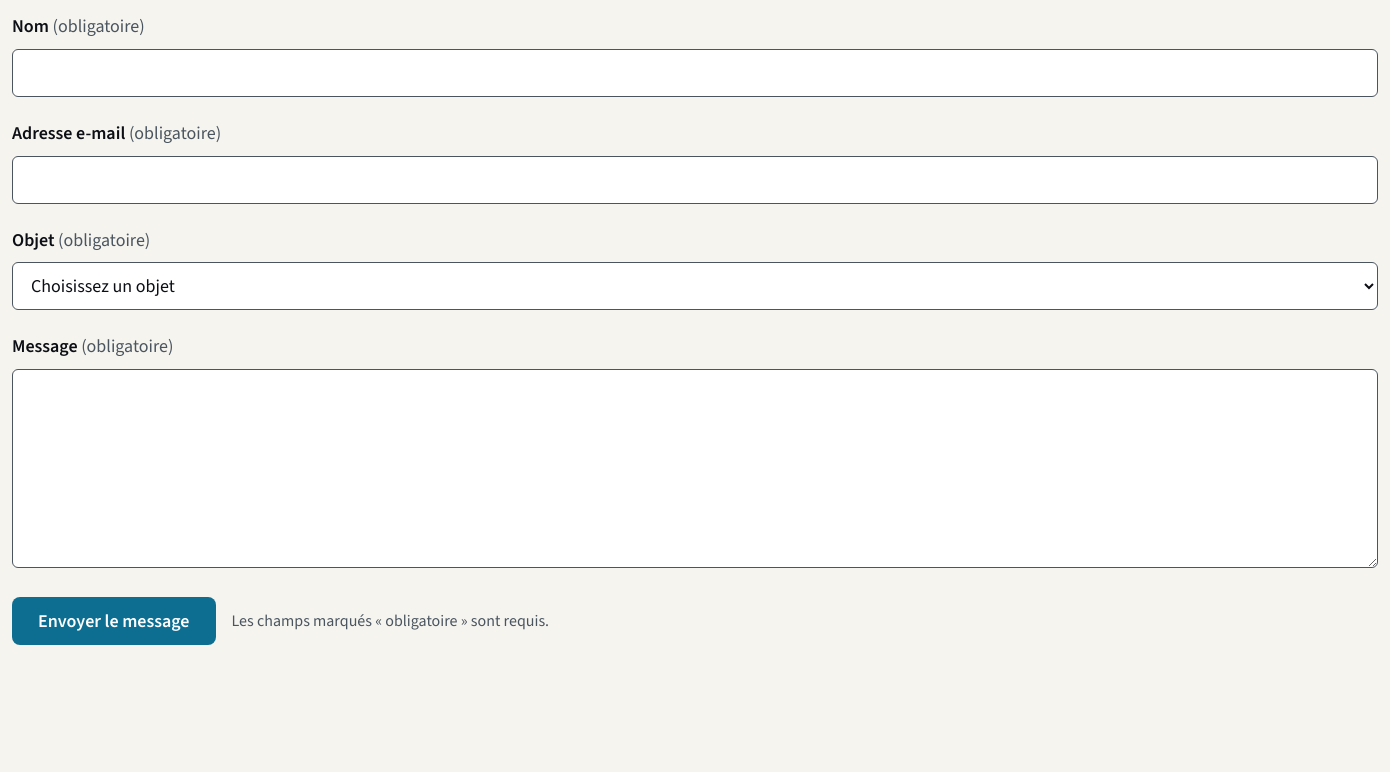
Scenario: ContactForm › should switch the summary to the singular for a single error
This screenshot has width=1390, height=772.
In the field labelled "Nom (obligatoire)": (695, 73) [12,49,1378,97], type "Marie Dupont"
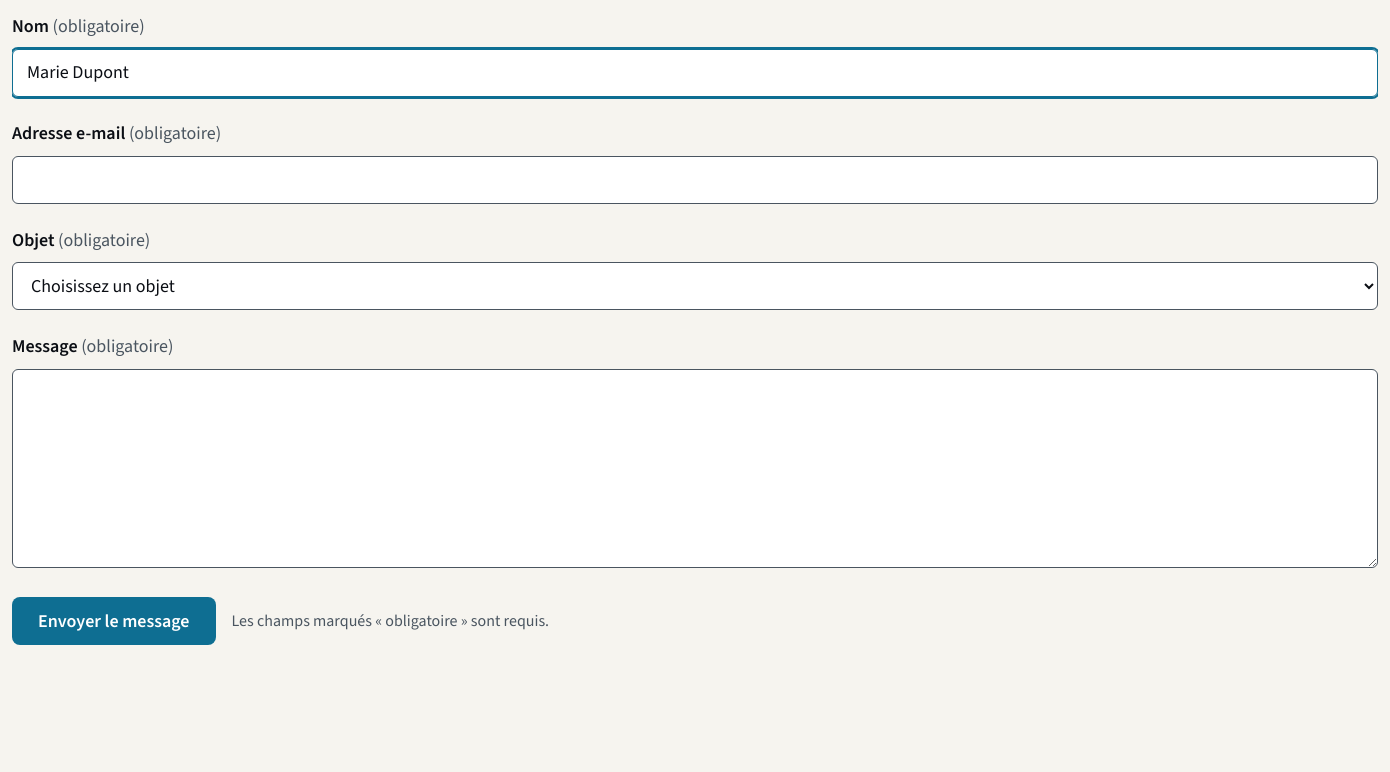
In the field labelled "Adresse e-mail (obligatoire)": (695, 180) [12,156,1378,204], type "marie@example.com"
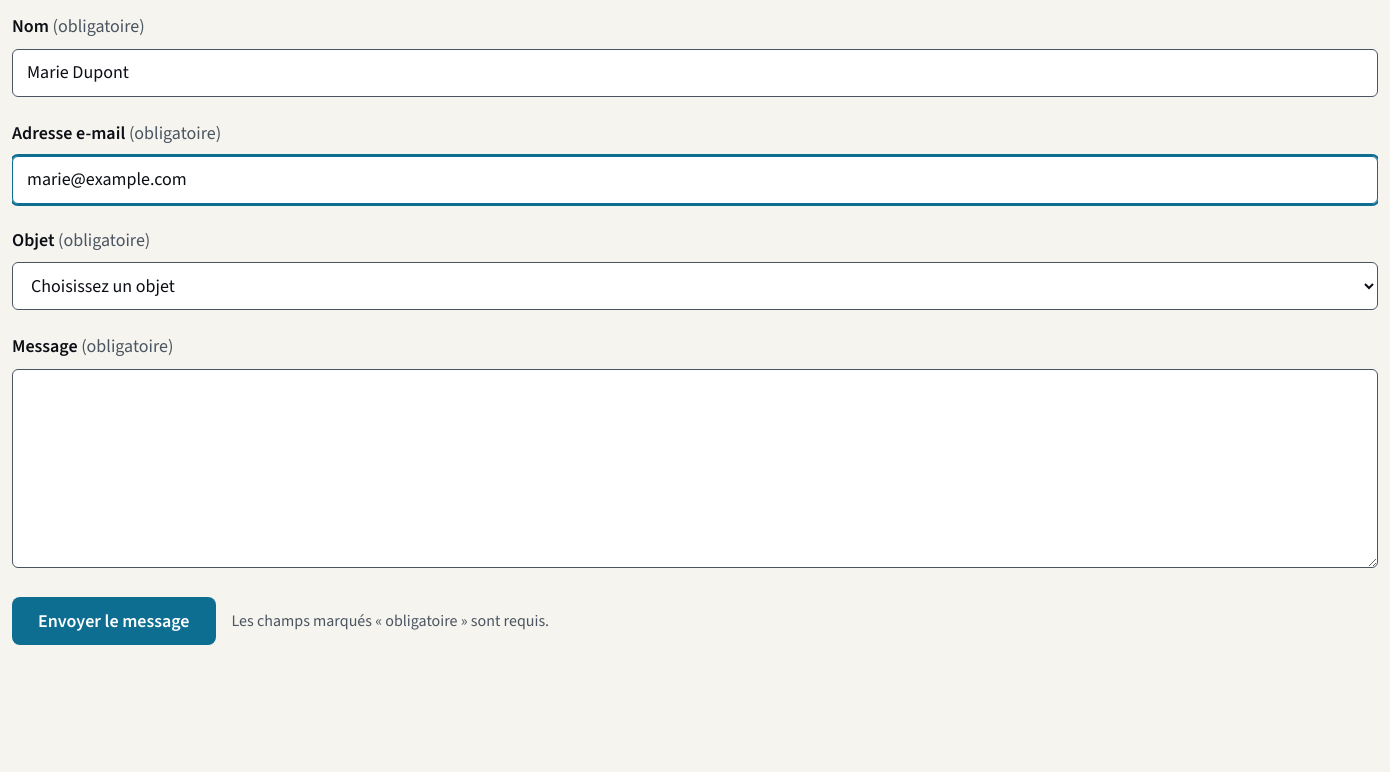
Select "Question sur les concerts" in the dropdown labelled "Objet (obligatoire)": (695, 286) [12,262,1378,310]
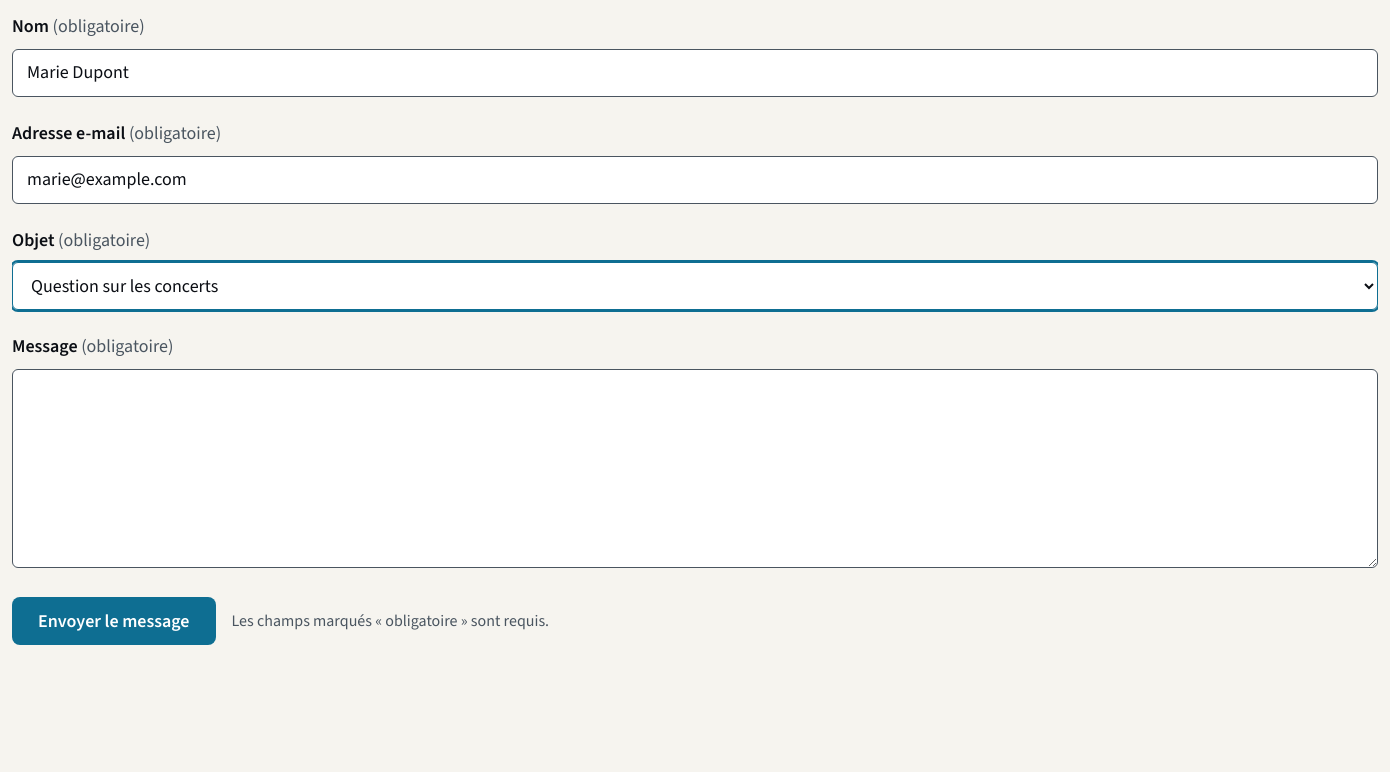
In the text box labelled "Message (obligatoire)": (695, 469) [12,369,1378,568], type "Bonjour, je souhaite des informations sur vos concerts."
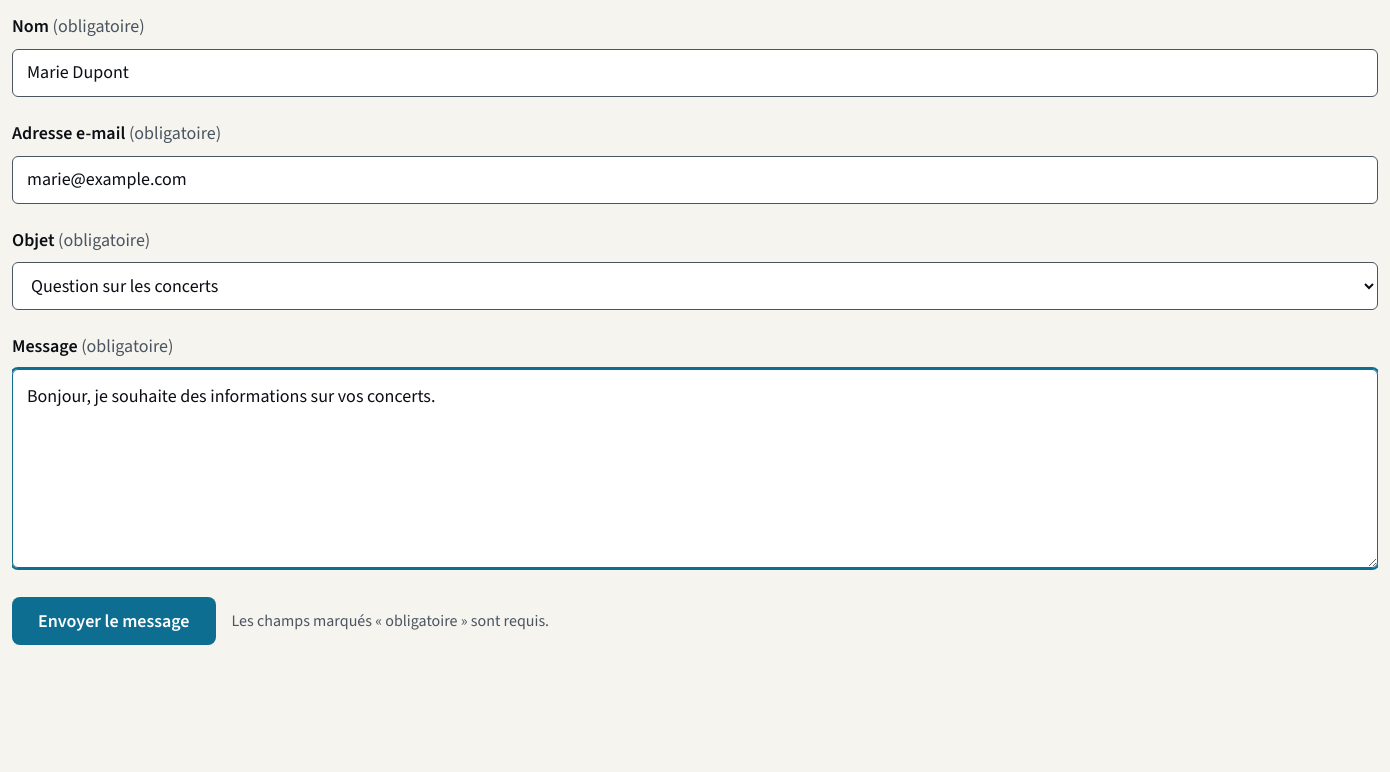
Clear the field labelled "Nom (obligatoire)": (695, 73) [12,49,1378,97]
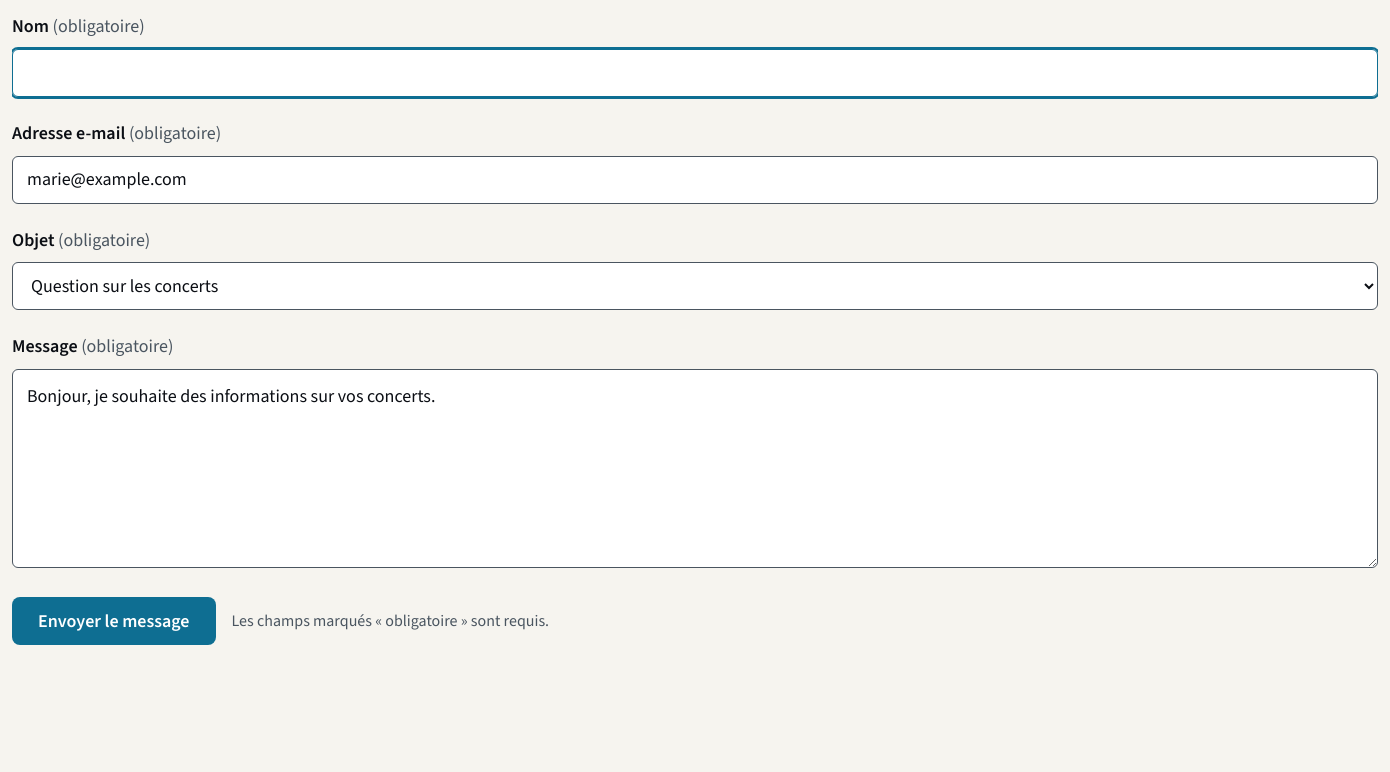
Click the button "Envoyer le message": (114, 621) [12,597,216,645]
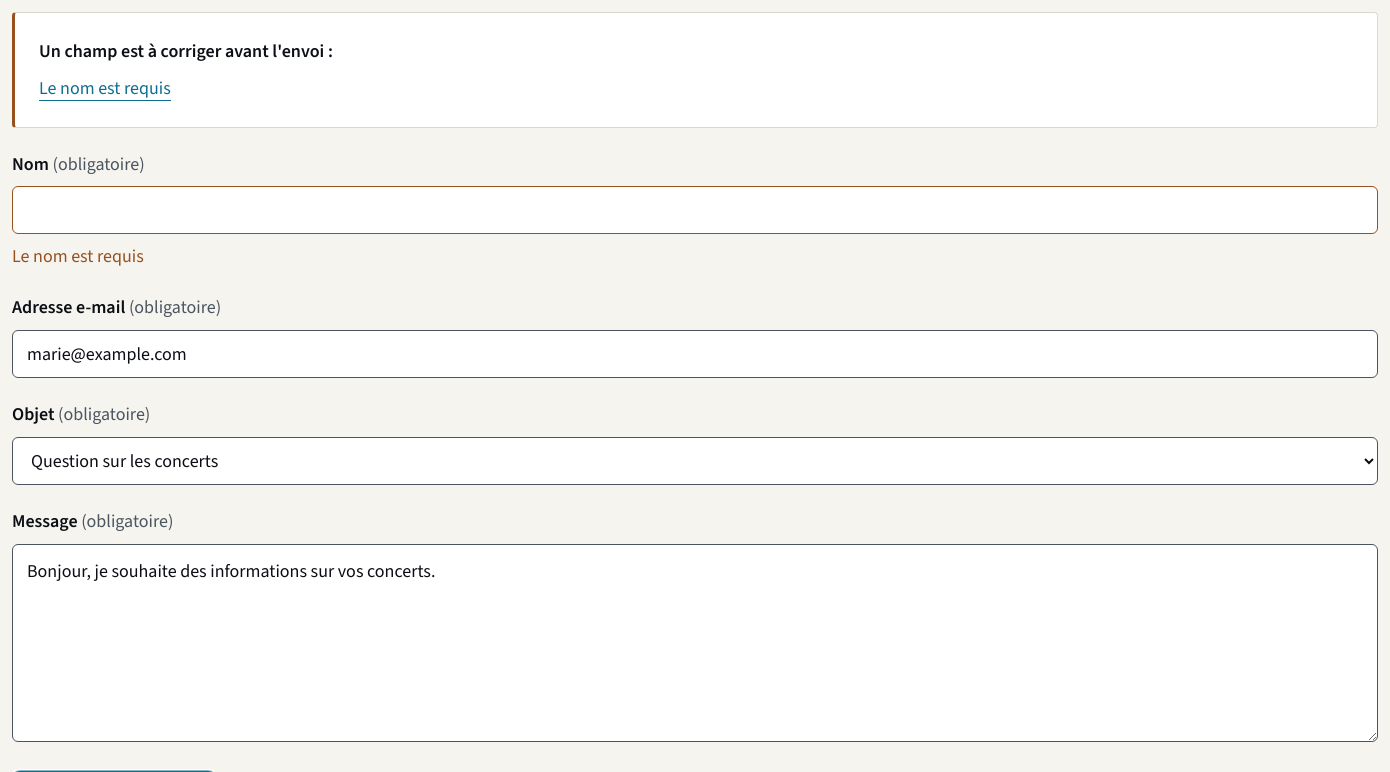
Check: the element showing "Un champ est à corriger avant l'envoi : Le nom est requis" is shown, box [12,12,1378,128]
